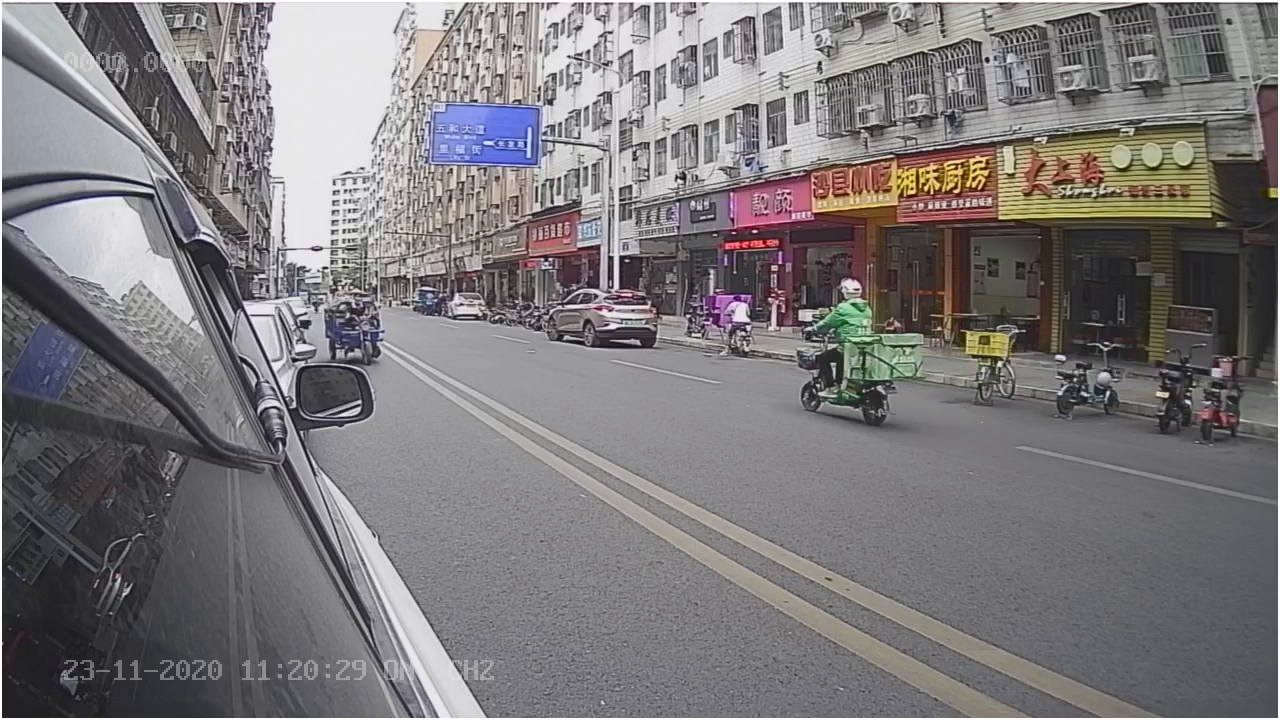person: (804, 275, 876, 331)
